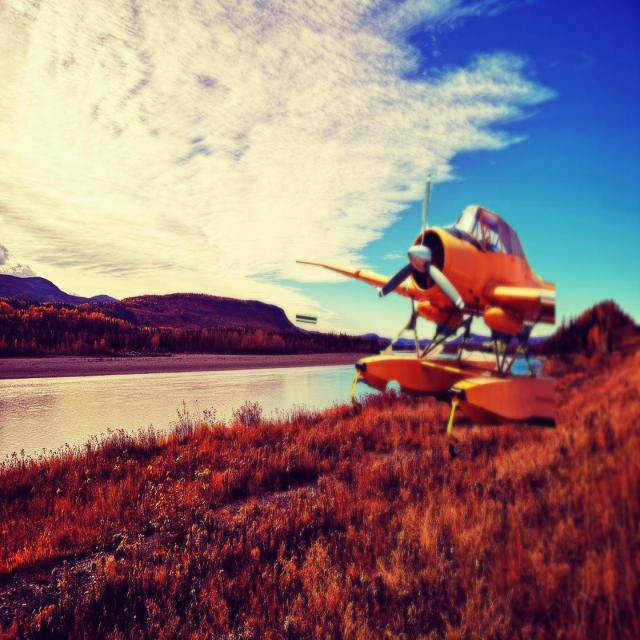airplane: (295, 172, 559, 456)
